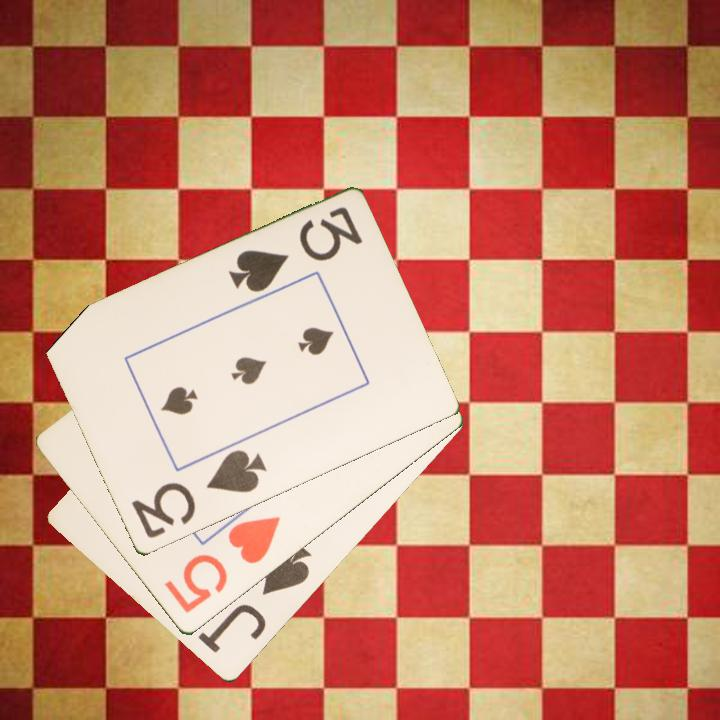3s: (127, 446, 269, 542), (225, 203, 365, 296)
5h: (160, 513, 284, 617)
Js: (194, 539, 315, 657)
